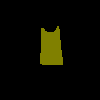canottiera: (40, 26, 63, 65)
